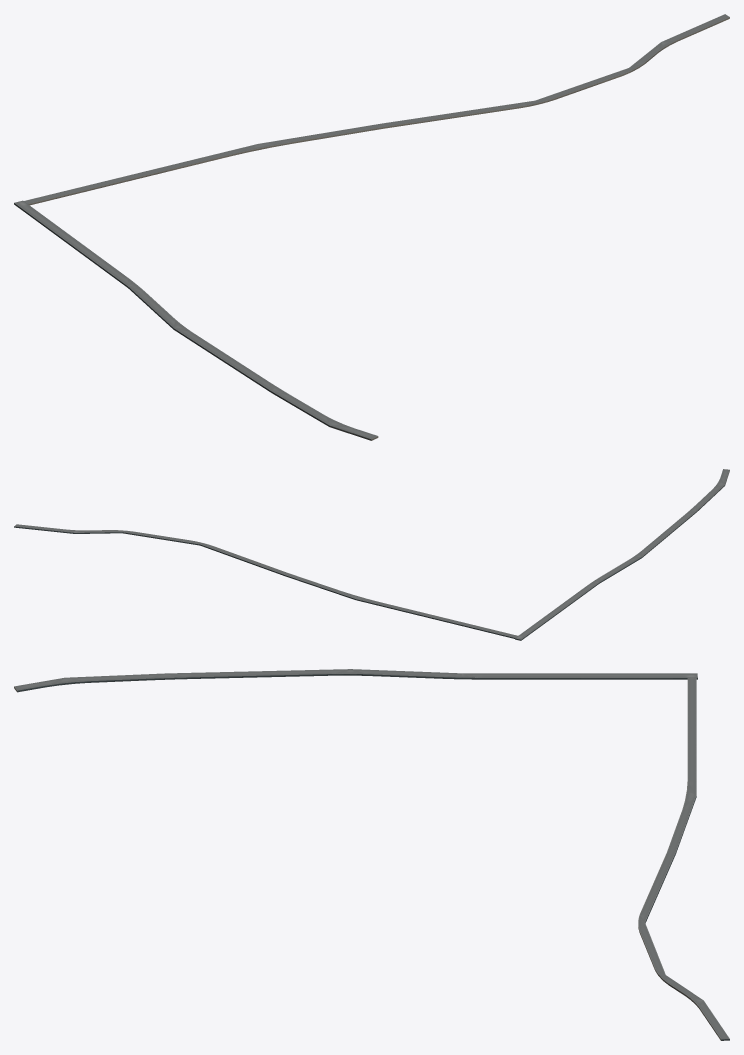
File: Zone2WallsSTONETOP33.fbx
3 renders of one model, top to bottom at view 1: azimuth 30°, elevation 25°; view 2: azimuth 150°, elevation 25°; view 3: azimuth 270°, elevation 25°, orthographic. The views are drawn at different scales.
Parts seen in each view (by area): view 1: Zone2Wall.LEFT_LOW.001; view 2: Zone2Wall.LEFT_LOW.001; view 3: Zone2Wall.LEFT_LOW.001.
Part boxes in pixels (box(x1,y1,x2,y2)): Zone2Wall.LEFT_LOW.001: box(14, 14, 729, 440); Zone2Wall.LEFT_LOW.001: box(14, 469, 729, 640); Zone2Wall.LEFT_LOW.001: box(14, 669, 729, 1040).
Size of the model in its own units: 4289 by 9.16 by 3506.
Materials: 1 (1 with a texture image).
